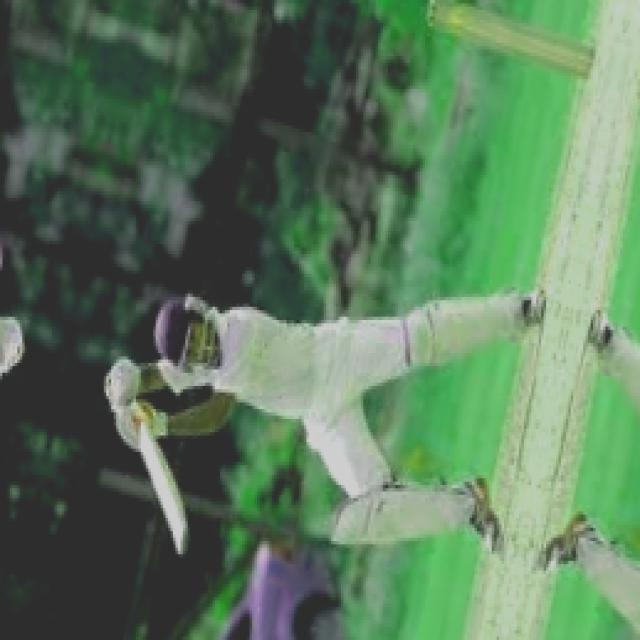bat: (131, 418, 196, 563)
toe: (175, 521, 189, 556)
